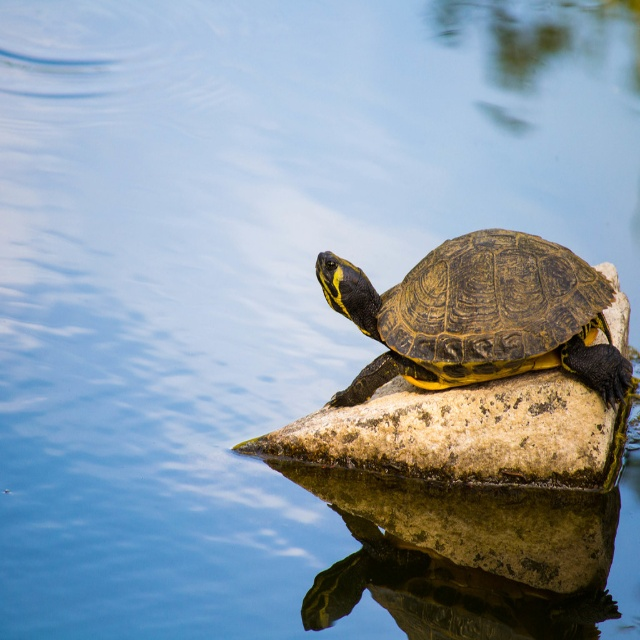Sea turtle: (312, 228, 635, 407)
